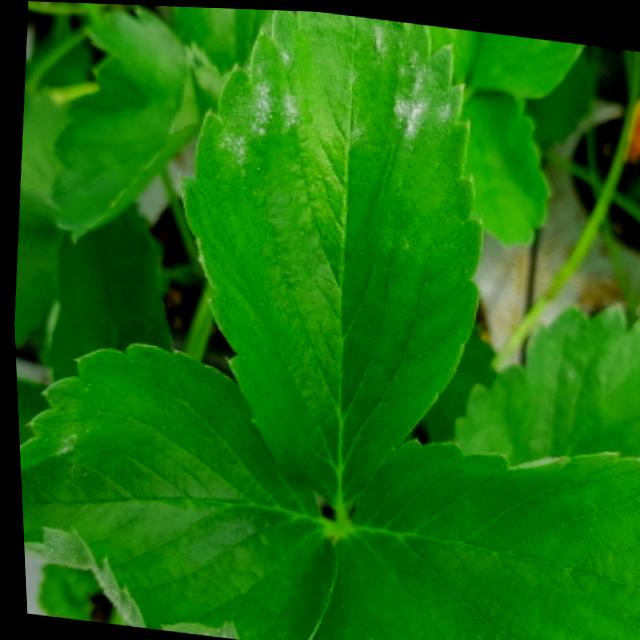Powdery Mildew Leaf: (177, 8, 479, 513), (15, 340, 337, 640), (307, 431, 640, 640)
